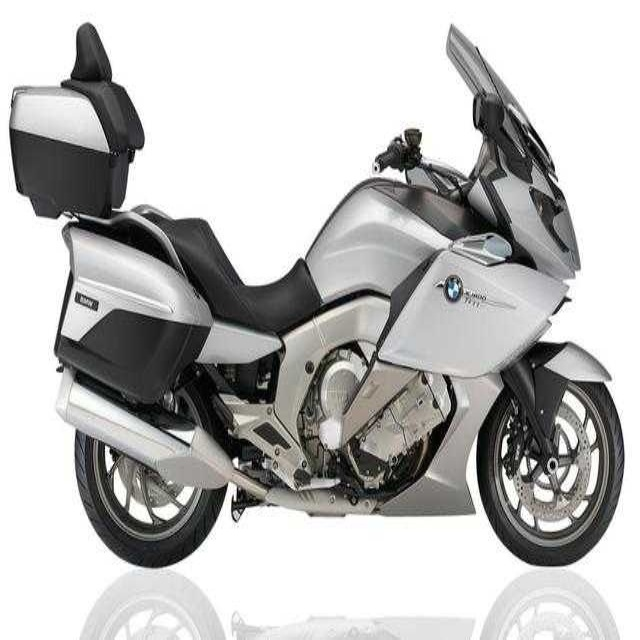Motorcycle: (52, 24, 625, 568)
